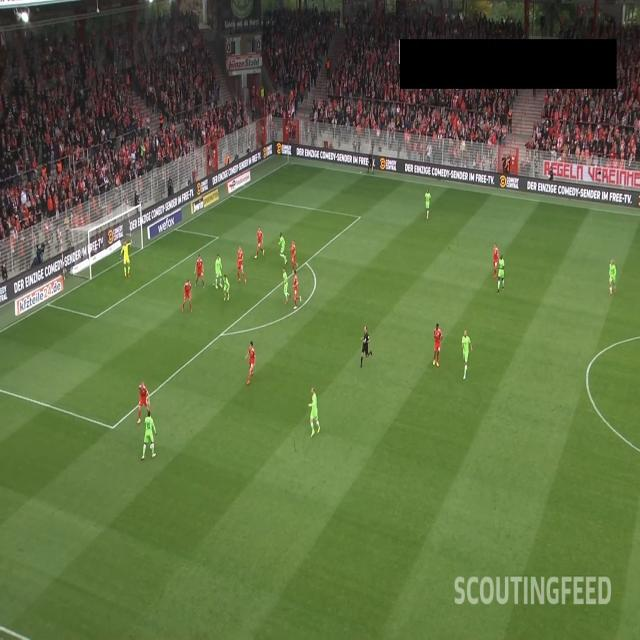ball: (150, 442, 154, 451)
